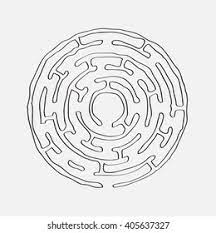maze: (27, 27, 188, 188)
